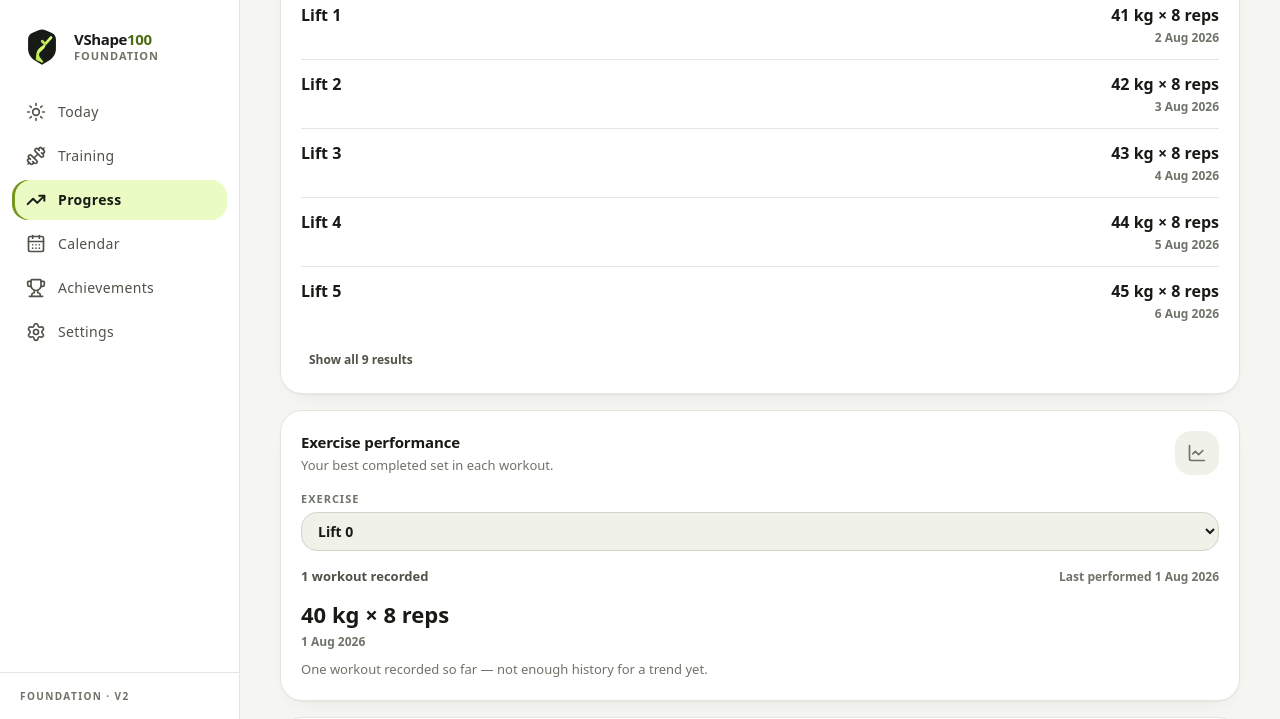
1. personal best › collapses a long list behind an expander
(page scrolled)
Check: the text "Lift 8" is not shown
Click the button "Show all 9 results" at (361, 360), box top-left (301, 347), bottom-right (421, 373)
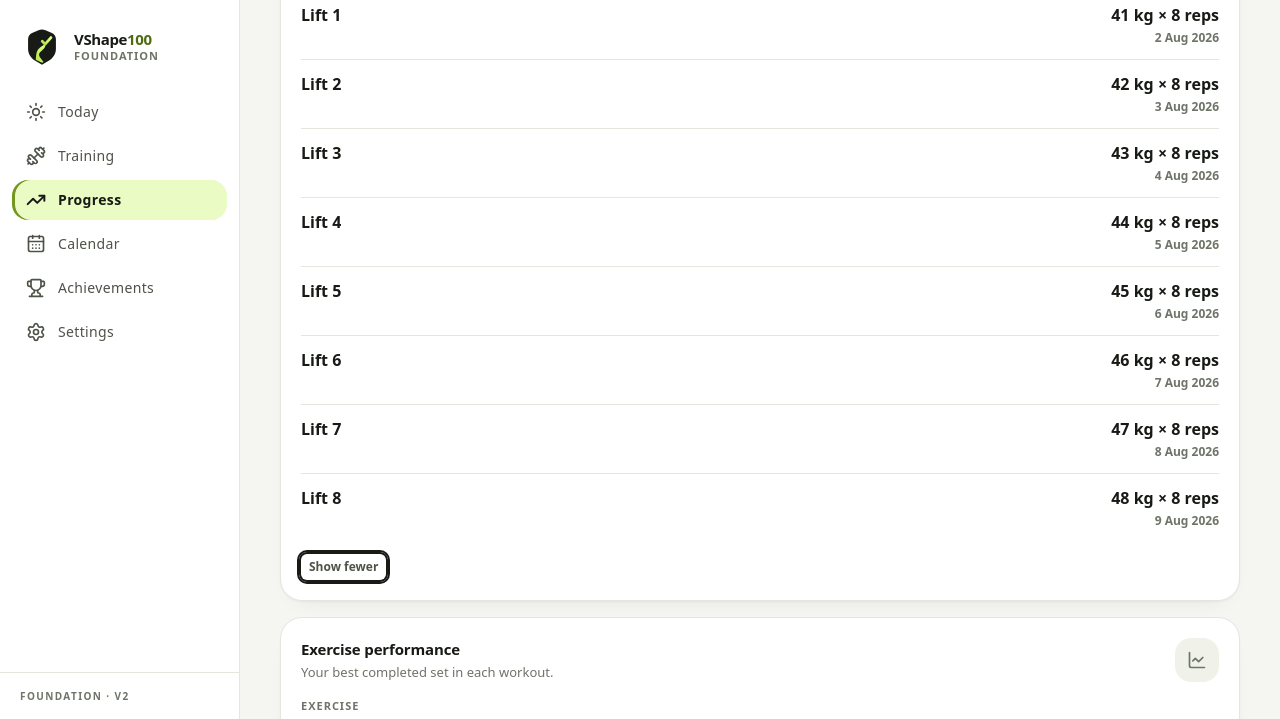
Check: the text "Lift 8" is shown, box top-left (301, 486), bottom-right (341, 510)
